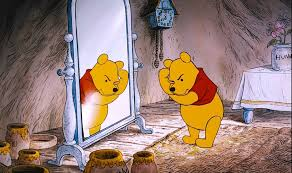Winnie: (162, 52, 213, 109)
